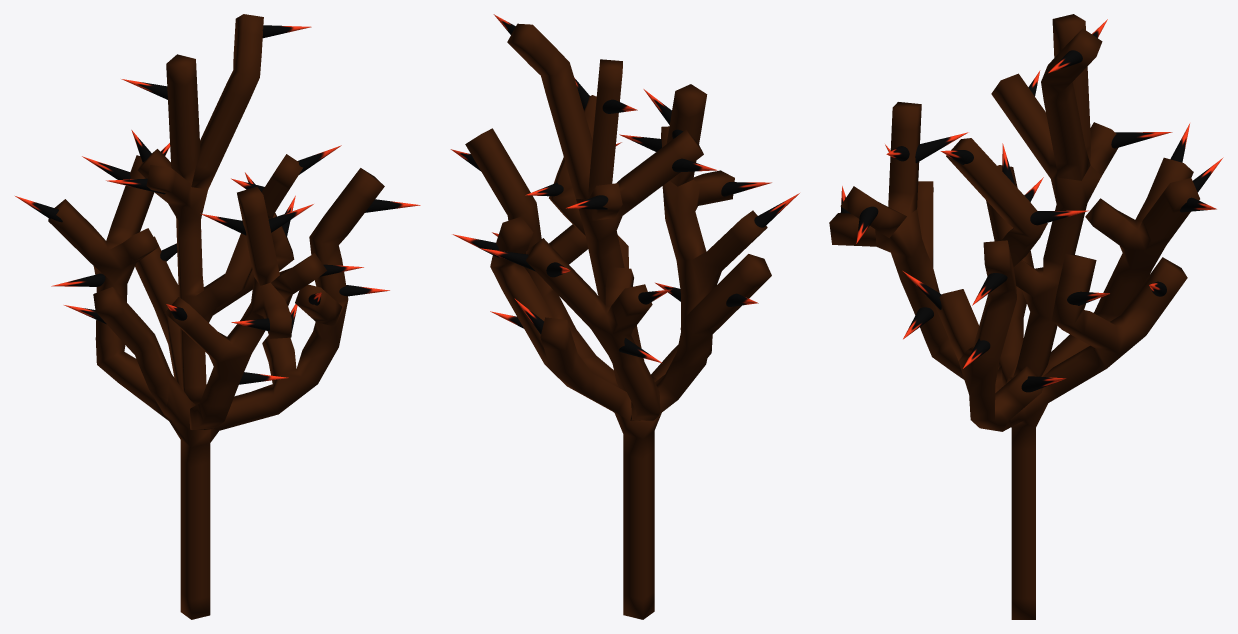
The model's file is spiky_bush.fbx.
3 renders of one model, left to right at view 1: azimuth 30°, elevation 25°; view 2: azimuth 150°, elevation 25°; view 3: azimuth 270°, elevation 25°, orthographic. The views are drawn at different scales.
Visible parts, largest first — view 1: Plane; view 2: Plane; view 3: Plane, Cone.018.
Part boxes in pixels (<box>): Plane: <box>48,14,384,619</box>; Plane: <box>465,23,771,619</box>; Plane: <box>829,14,1199,619</box>; Cone.018: <box>1111,132,1172,148</box>.
Size of the model in its own units: 98.77 by 162 by 92.58.
